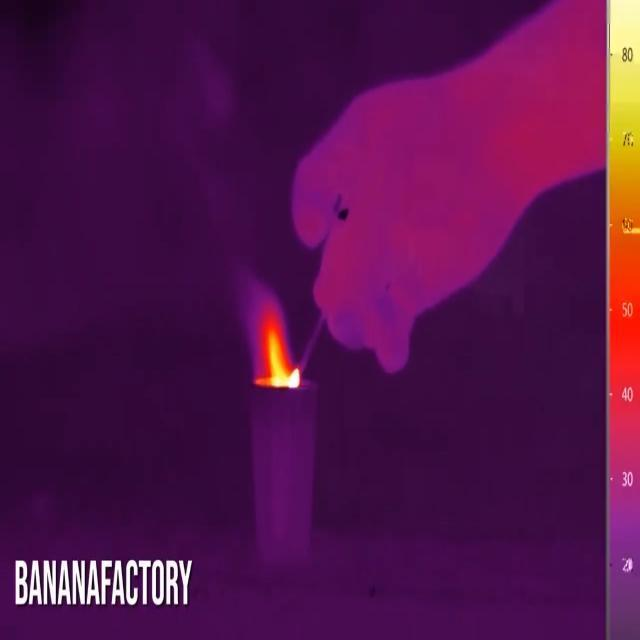fire: (242, 283, 301, 393)
